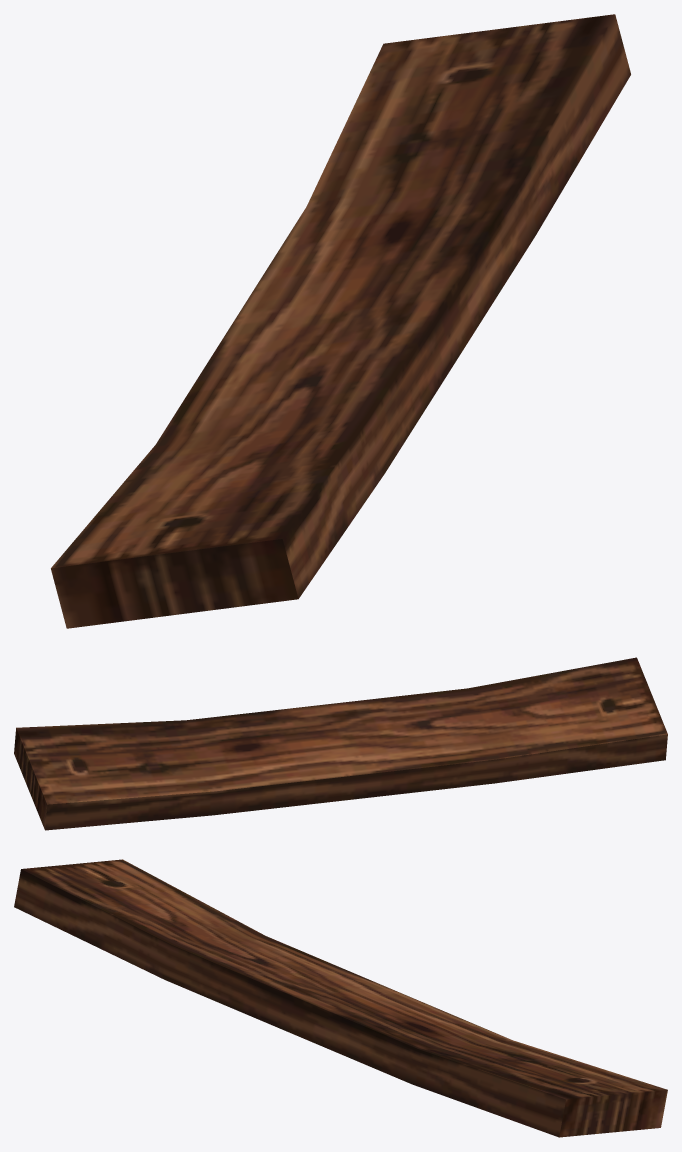
File: OVERHILL_A_01_WOOD_BOARD_21.fbx
3 renders of one model, top to bottom at view 1: azimuth 30°, elevation 25°; view 2: azimuth 150°, elevation 25°; view 3: azimuth 270°, elevation 25°, orthographic. The views are drawn at different scales.
Visible parts, largest first — view 1: OVERHILL_A_01_WOOD_BOARD_21; view 2: OVERHILL_A_01_WOOD_BOARD_21; view 3: OVERHILL_A_01_WOOD_BOARD_21.
Part boxes in pixels (x1,y1,x2,y2): OVERHILL_A_01_WOOD_BOARD_21: [51, 14, 630, 628]; OVERHILL_A_01_WOOD_BOARD_21: [14, 657, 667, 830]; OVERHILL_A_01_WOOD_BOARD_21: [14, 859, 667, 1137].
Bounding box in the file's own units: 15489 × 2006 × 15489.
Materials: 1 (1 with a texture image).
